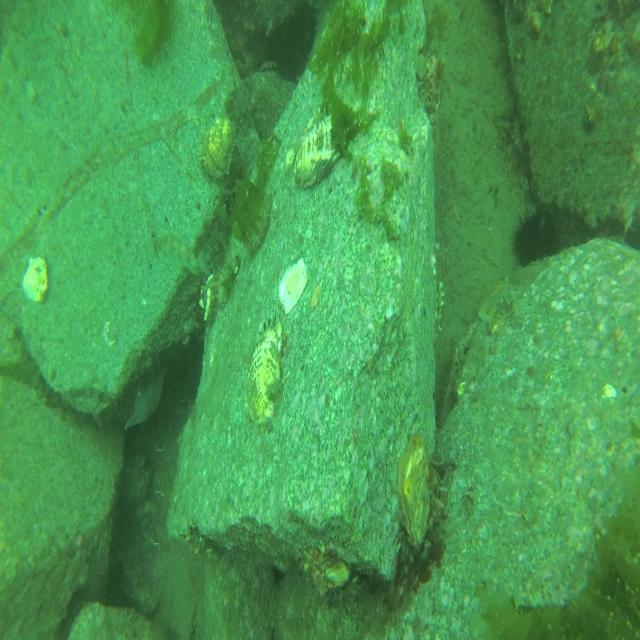echinus: (509, 201, 562, 267), (267, 8, 314, 81)
starfish: (124, 368, 168, 431)
